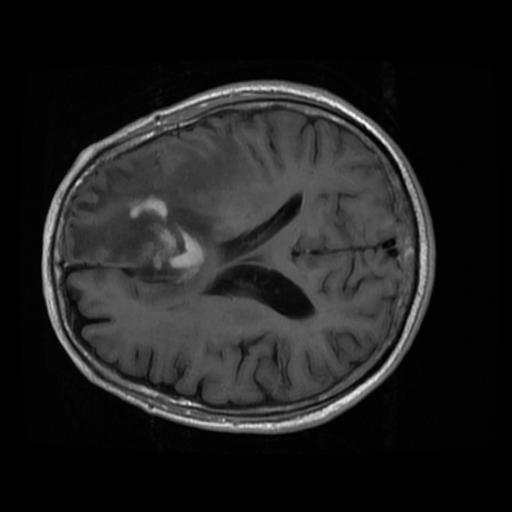glioma: (94, 152, 227, 273)
